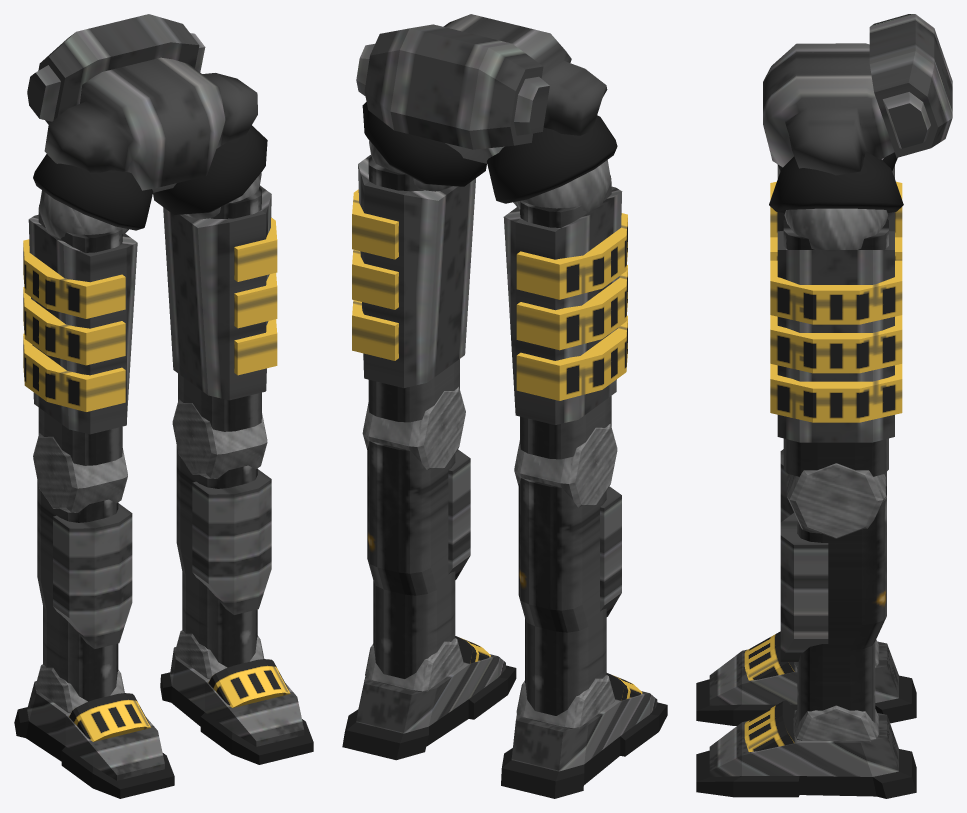
The model's file is Robot 9 legs.fbx.
The picture shows the model from 3 angles, left to right: view 1: azimuth 30°, elevation 25°; view 2: azimuth 150°, elevation 25°; view 3: azimuth 270°, elevation 25°; orthographic projection. The views are drawn at different scales.
Visible parts, largest first — view 1: Icosphere.011, Cube.011, Icosphere.009, Cylinder.003, Cylinder.001, Cube.015, Cube.043; view 2: Icosphere.011, Icosphere.009, Cylinder.003, Cylinder.001, Cube.011, Cube.043, Cube.015; view 3: Icosphere.009, Cylinder.003, Cube.011, Cube.043, Cube.015, Icosphere.011, Cylinder.001.
Part boxes in pixels (bbox=[...]): Icosphere.011: bbox=[23, 154, 153, 465]; Cube.011: bbox=[27, 14, 257, 192]; Icosphere.009: bbox=[153, 125, 277, 431]; Cylinder.003: bbox=[172, 399, 271, 679]; Cylinder.001: bbox=[33, 433, 132, 713]; Cube.015: bbox=[14, 681, 174, 798]; Cube.043: bbox=[160, 647, 313, 764]; Icosphere.011: bbox=[487, 115, 627, 459]; Icosphere.009: bbox=[352, 102, 486, 422]; Cylinder.003: bbox=[362, 387, 470, 691]; Cylinder.001: bbox=[514, 423, 621, 728]; Cube.011: bbox=[356, 14, 607, 163]; Cube.043: bbox=[342, 636, 516, 760]; Cube.015: bbox=[501, 673, 667, 798]; Icosphere.009: bbox=[769, 151, 903, 476]; Cylinder.003: bbox=[780, 463, 886, 741]; Cube.011: bbox=[763, 14, 952, 175]; Cube.043: bbox=[696, 700, 916, 798]; Cube.015: bbox=[696, 631, 916, 725]; Icosphere.011: bbox=[770, 152, 902, 260]; Cylinder.001: bbox=[780, 449, 886, 668].
Size of the model in its own units: 286 by 808 by 264.
